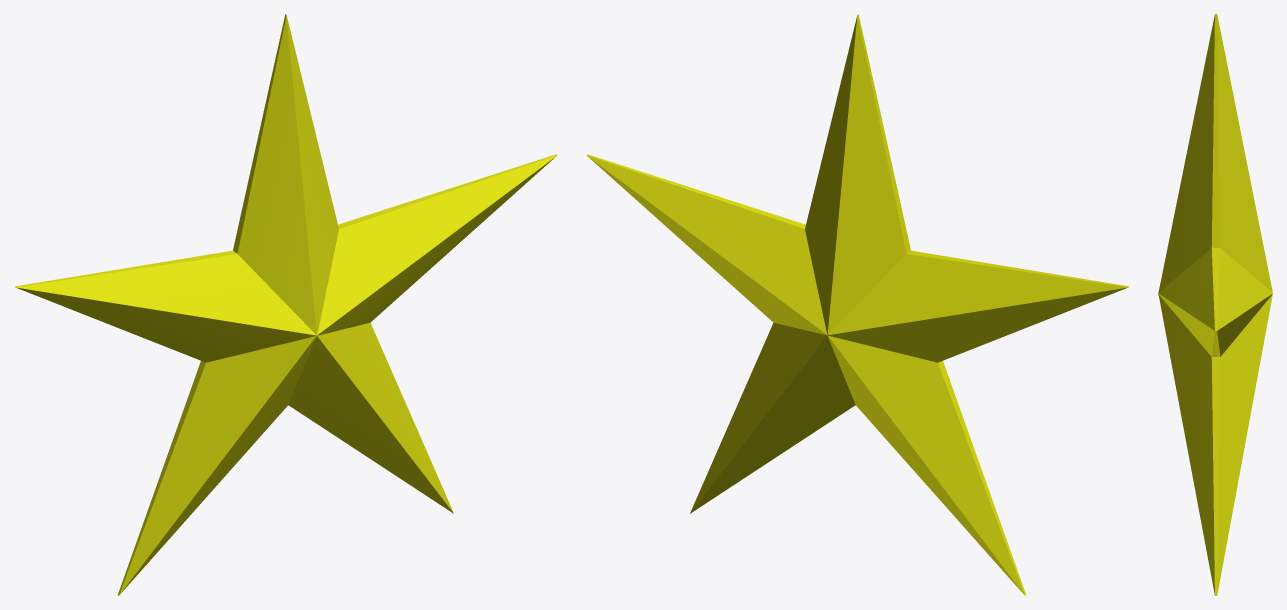
File: Yldz.fbx
3 renders of one model, left to right at view 1: azimuth 30°, elevation 25°; view 2: azimuth 150°, elevation 25°; view 3: azimuth 270°, elevation 25°, orthographic. The views are drawn at different scales.
Parts seen in each view (by area): view 1: Cylinder; view 2: Cylinder; view 3: Cylinder.
Part boxes in pixels (box(x1,y1,x2,y2)): Cylinder: box(14, 14, 557, 595); Cylinder: box(586, 14, 1129, 595); Cylinder: box(1158, 14, 1272, 595).
Bounding box in the file's own units: 70.69 × 67.23 × 13.82.
